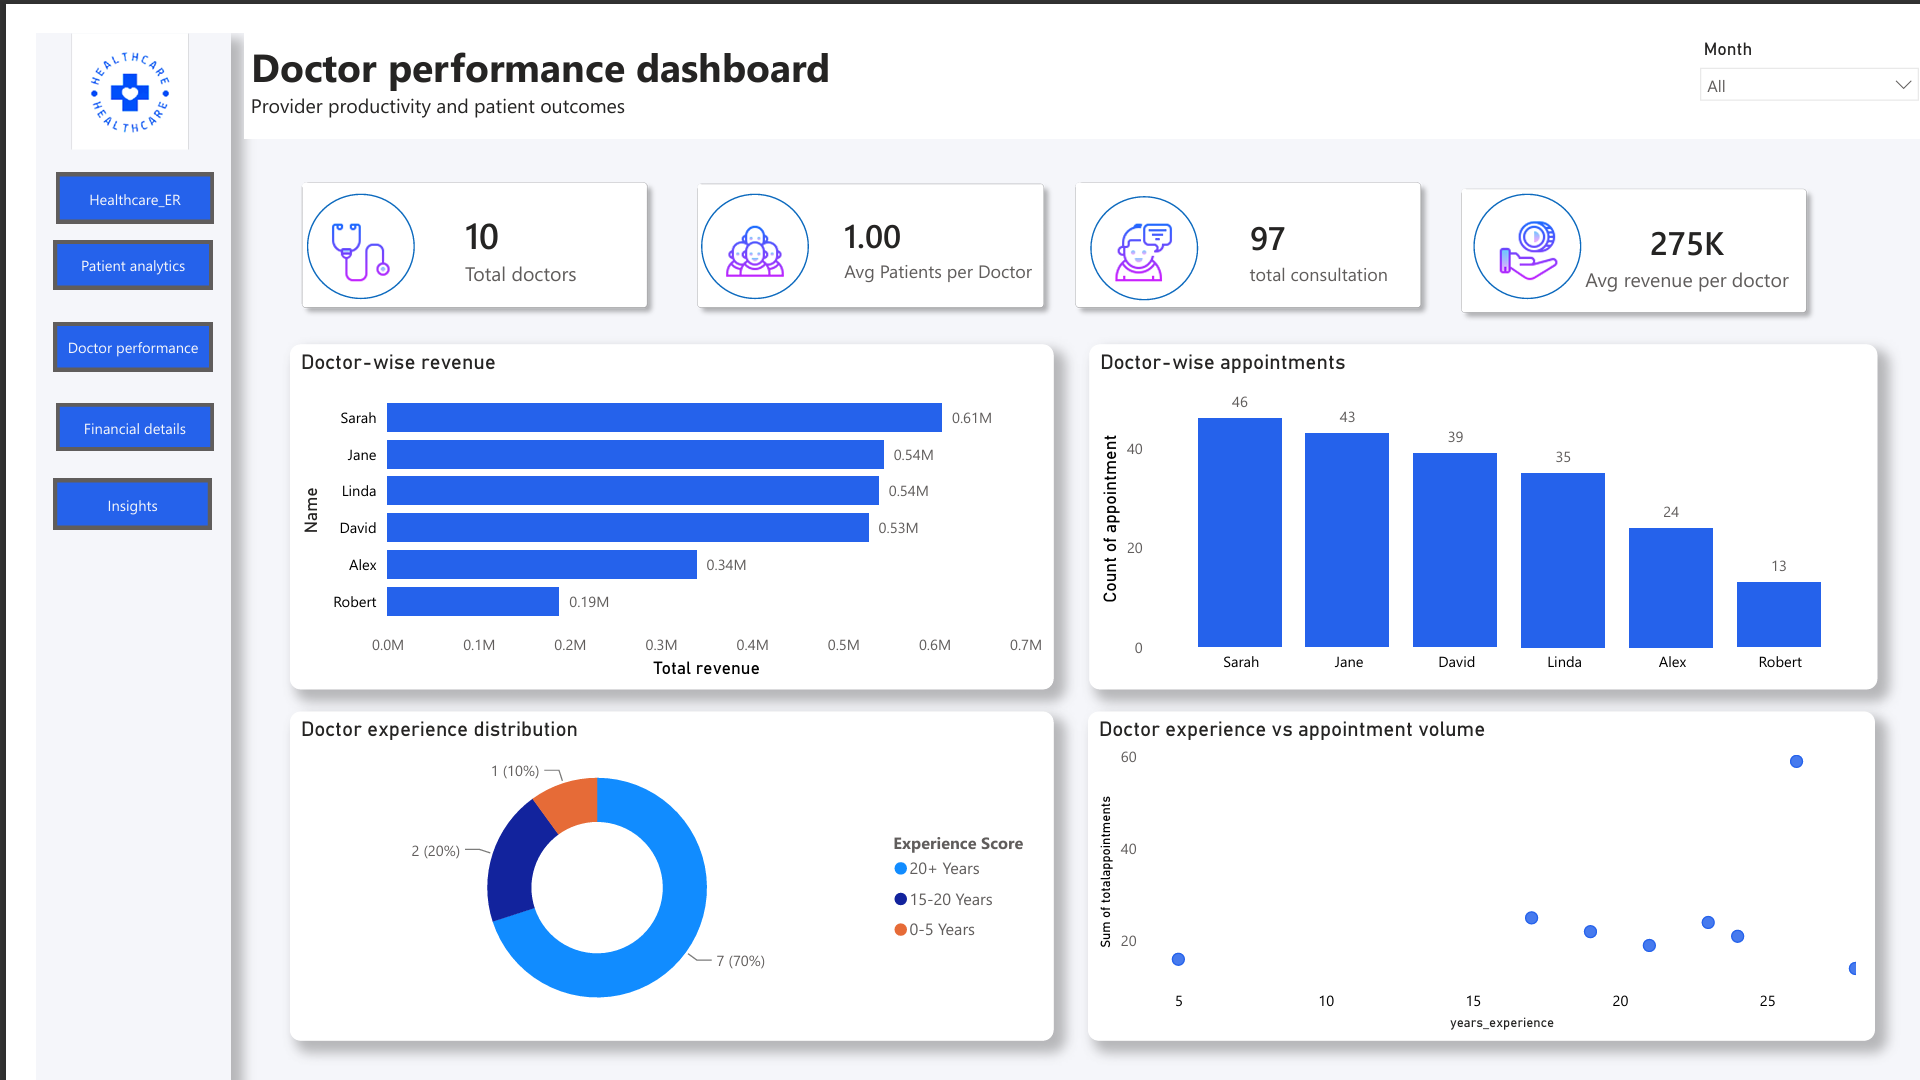

This screenshot's page, from the dashboard's own definition file:
{"tool":"powerbi","page":{"name":"Doctor performance","canvas":[1548,863],"ordinal":2},"visuals":[{"type":"shape","title":"Healthcare analytics","box":[0,0,159.3,863],"z":0},{"type":"image","box":[8.4,0,136.3,95.3],"z":1000},{"type":"actionButton","box":[14.5,168.9,129.1,39.8],"z":2000},{"type":"actionButton","box":[14.5,236.5,129.1,39.8],"z":3000},{"type":"actionButton","box":[15.7,301.6,129.1,39.8],"z":4000},{"type":"textbox","box":[170.2,0,1378.1,85.8],"z":5000},{"type":"slicer","fields":{"Values":["monthly_rev.month_name"]},"box":[1348.6,0,199.7,63.3],"z":6000},{"type":"shape","box":[207.5,113.4,300.4,119.4],"z":7000},{"type":"shape","box":[531,113.8,300.7,119.2],"z":8000},{"type":"shape","box":[839.7,113.4,300.4,119.4],"z":9000},{"type":"shape","box":[1155.4,117.8,299.3,119.2],"z":10000},{"type":"shape","box":[220.8,131.4,88,85.3],"z":11000},{"type":"shape","box":[543.1,131.4,88,85.3],"z":12000},{"type":"shape","box":[861.4,132.7,88,85.3],"z":13000},{"type":"shape","box":[1174.3,131.4,88,85.3],"z":14000},{"type":"image","box":[1190.1,144.6,57.8,65.1],"z":15000},{"type":"image","box":[558.2,144.6,57.8,65.1],"z":16000},{"type":"cardVisual","fields":{"Data":["billing.total revenue"]},"box":[319.7,127.3,174.7,92.1],"z":17000},{"type":"cardVisual","fields":{"Data":["CountNonNull(doctors.doctor_id)"]},"box":[321,128.7,174.7,92.1],"z":18000},{"type":"cardVisual","fields":{"Data":["Avg(rev_by_doc.revenue)"]},"box":[1229.1,133.6,239.1,95.6],"z":19000},{"type":"cardVisual","fields":{"Data":["doc_appointments.total consultation"]},"box":[961.7,130,178.8,94.8],"z":20000},{"type":"cardVisual","fields":{"Data":["doc_appointments.Avg Patients per Doctor"]},"box":[631.2,123.3,253.3,104.3],"z":21000},{"type":"clusteredBarChart","title":"Doctor-wise revenue","fields":{"Category":["doctors.first_name"],"Y":["Sum(rev_by_doc.revenue)"]},"box":[207.4,253.9,624,282.1],"z":22000},{"type":"clusteredColumnChart","title":"Doctor-wise appointments","fields":{"Y":["CountNonNull(appointments.appointment_id)"],"Category":["doctors.first_name"]},"box":[859.6,253.9,643.9,282.1],"z":23000},{"type":"donutChart","title":"Doctor experience distribution","fields":{"Category":["doctors.Performance Score"],"Y":["CountNonNull(doctors.doctor_id)"]},"box":[206.8,553.8,624.7,269],"z":24000},{"type":"scatterChart","title":"Doctor experience vs appointment volume","fields":{"Y":["Sum(doc_appointments.totalappointments)"],"X":["doctors.years_experience"]},"box":[859,553.8,643.5,269],"z":25000},{"type":"image","box":[876.3,146.1,57.8,65.1],"z":26000},{"type":"image","box":[235.7,146.1,57.8,65.1],"z":27000},{"type":"actionButton","title":"Executive dashboard","box":[15.9,114.2,128.7,40.5],"z":28000},{"type":"actionButton","box":[14.5,364.4,128.7,40.5],"z":29000}]}

Visuals, with their boxes in screenshot pixels (x1, y1, x2, y2), scaled from the page's 1548x863 canvas onto the 1920x1080 screenshot:
"Healthcare analytics" shape: {"x1": 0, "y1": 0, "x2": 198, "y2": 1079}
image: {"x1": 10, "y1": 0, "x2": 179, "y2": 119}
actionButton: {"x1": 18, "y1": 211, "x2": 178, "y2": 261}
actionButton: {"x1": 18, "y1": 296, "x2": 178, "y2": 346}
actionButton: {"x1": 19, "y1": 377, "x2": 180, "y2": 427}
textbox: {"x1": 211, "y1": 0, "x2": 1919, "y2": 107}
slicer - monthly_rev.month_name: {"x1": 1673, "y1": 0, "x2": 1919, "y2": 79}
shape: {"x1": 257, "y1": 142, "x2": 630, "y2": 291}
shape: {"x1": 659, "y1": 142, "x2": 1032, "y2": 292}
shape: {"x1": 1041, "y1": 142, "x2": 1414, "y2": 291}
shape: {"x1": 1433, "y1": 147, "x2": 1804, "y2": 297}
shape: {"x1": 274, "y1": 164, "x2": 383, "y2": 271}
shape: {"x1": 674, "y1": 164, "x2": 783, "y2": 271}
shape: {"x1": 1068, "y1": 166, "x2": 1178, "y2": 273}
shape: {"x1": 1456, "y1": 164, "x2": 1566, "y2": 271}
image: {"x1": 1476, "y1": 181, "x2": 1548, "y2": 262}
image: {"x1": 692, "y1": 181, "x2": 764, "y2": 262}
cardVisual - billing.total revenue: {"x1": 397, "y1": 159, "x2": 613, "y2": 275}
cardVisual - CountNonNull(doctors.doctor_id): {"x1": 398, "y1": 161, "x2": 615, "y2": 276}
cardVisual - Avg(rev_by_doc.revenue): {"x1": 1524, "y1": 167, "x2": 1821, "y2": 287}
cardVisual - doc_appointments.total consultation: {"x1": 1193, "y1": 163, "x2": 1415, "y2": 281}
cardVisual - doc_appointments.Avg Patients per Doctor: {"x1": 783, "y1": 154, "x2": 1097, "y2": 285}
"Doctor-wise revenue" clusteredBarChart: {"x1": 257, "y1": 318, "x2": 1031, "y2": 671}
"Doctor-wise appointments" clusteredColumnChart: {"x1": 1066, "y1": 318, "x2": 1865, "y2": 671}
"Doctor experience distribution" donutChart: {"x1": 256, "y1": 693, "x2": 1031, "y2": 1030}
"Doctor experience vs appointment volume" scatterChart: {"x1": 1065, "y1": 693, "x2": 1864, "y2": 1030}
image: {"x1": 1087, "y1": 183, "x2": 1159, "y2": 264}
image: {"x1": 292, "y1": 183, "x2": 364, "y2": 264}
"Executive dashboard" actionButton: {"x1": 20, "y1": 143, "x2": 179, "y2": 194}
actionButton: {"x1": 18, "y1": 456, "x2": 178, "y2": 507}
